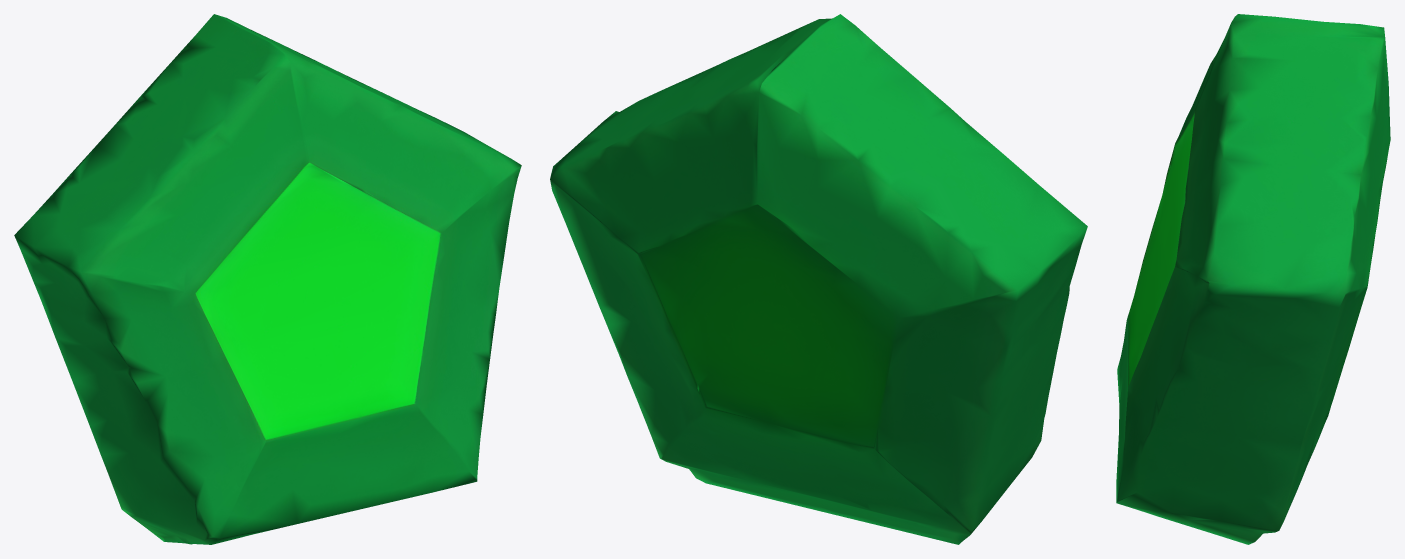
The model's file is gema.glb.
3 views of the same model, side by side, from view 1: azimuth 30°, elevation 25°; view 2: azimuth 150°, elevation 25°; view 3: azimuth 270°, elevation 25° (orthographic). The views are drawn at different scales.
Visible parts, largest first — view 1: tripo_node_d3effa75-8ebe-4f7e-a2d2-280a5273e94b; view 2: tripo_node_d3effa75-8ebe-4f7e-a2d2-280a5273e94b; view 3: tripo_node_d3effa75-8ebe-4f7e-a2d2-280a5273e94b.
Part boxes in pixels (<box>): tripo_node_d3effa75-8ebe-4f7e-a2d2-280a5273e94b: <box>14,14,521,544</box>; tripo_node_d3effa75-8ebe-4f7e-a2d2-280a5273e94b: <box>550,14,1087,544</box>; tripo_node_d3effa75-8ebe-4f7e-a2d2-280a5273e94b: <box>1116,14,1390,544</box>.
Size of the model in its own units: 0.9998 by 1 by 0.5274.
1 material, 1 textured.
